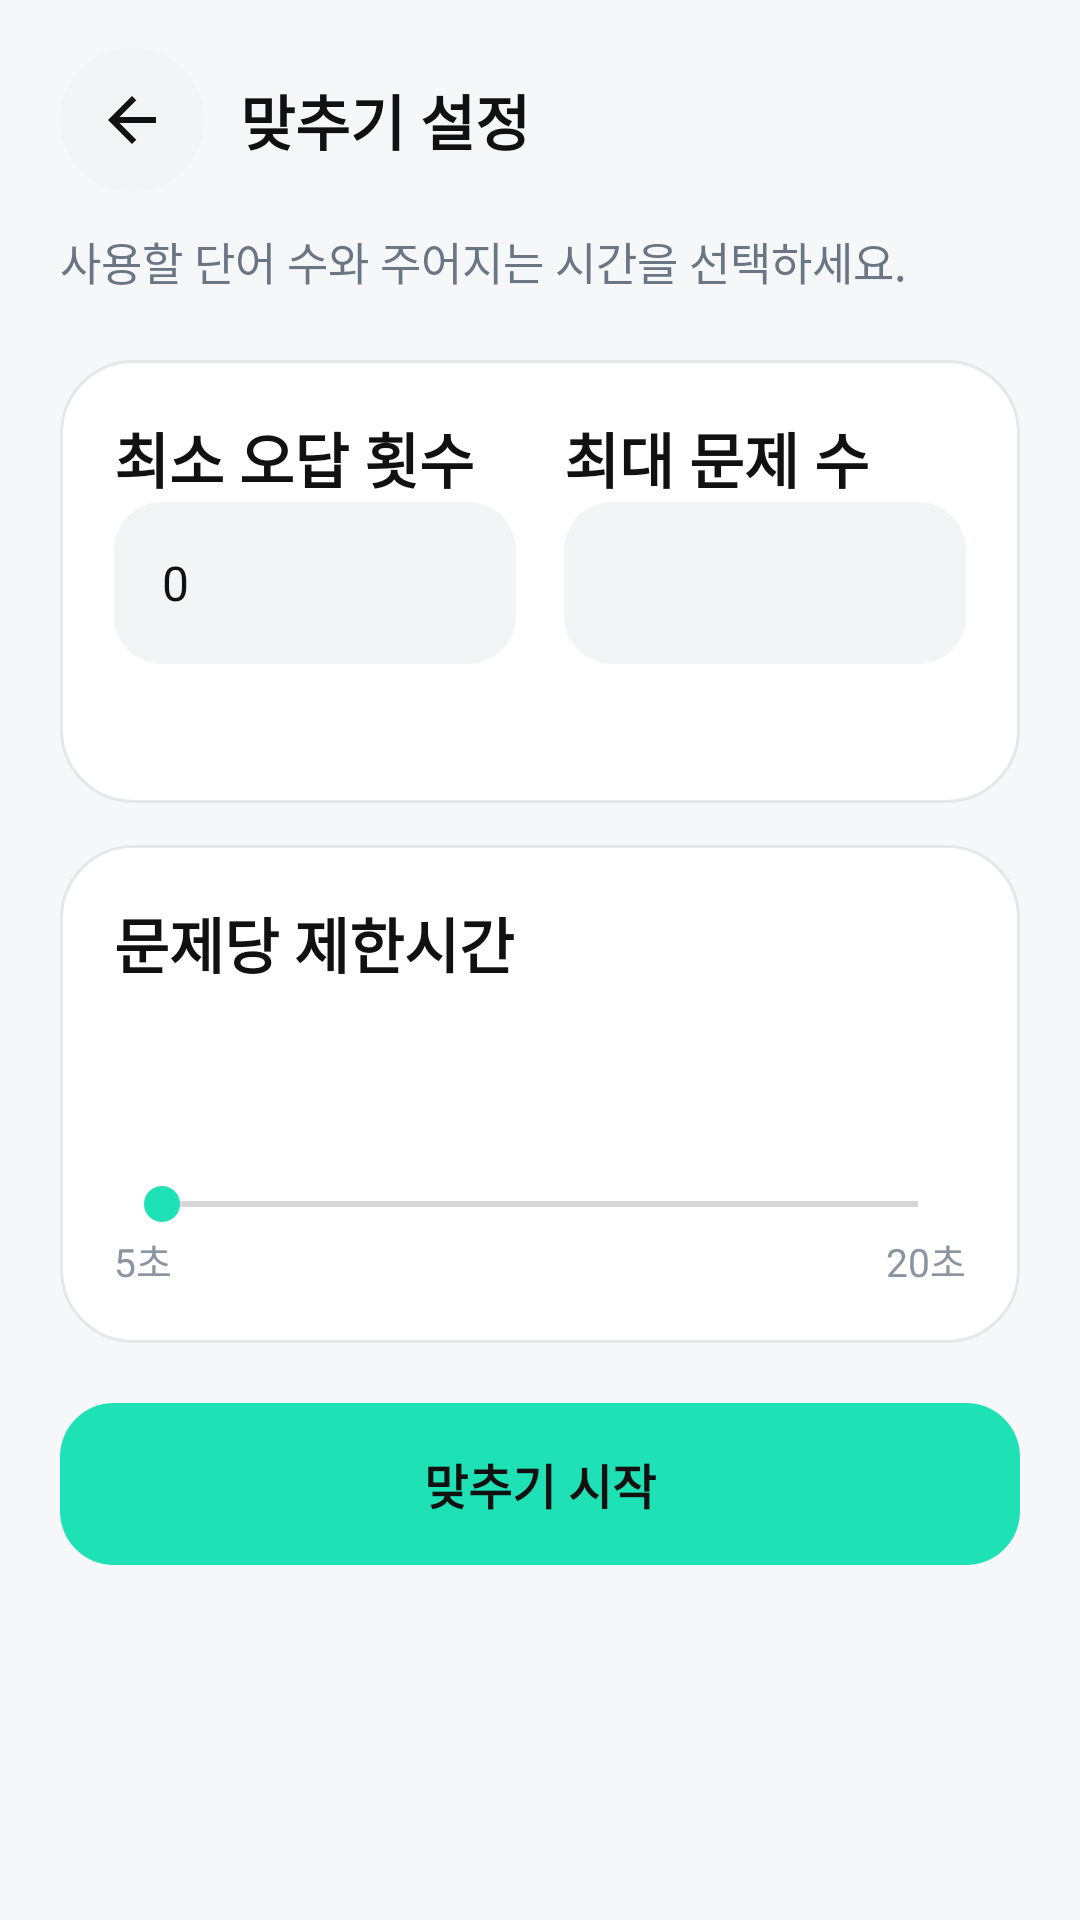

Icon bounding boxes for this 1080 x 1920 phone screenshot, format [left=x1, top=y1, right=x2, bottom=y2]:
뒤로 가기: [left=108, top=96, right=156, bottom=144]
